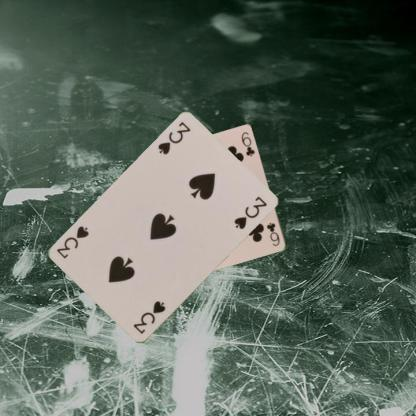3s: (155, 119, 192, 157), (131, 298, 167, 336)
6c: (264, 220, 281, 247)
